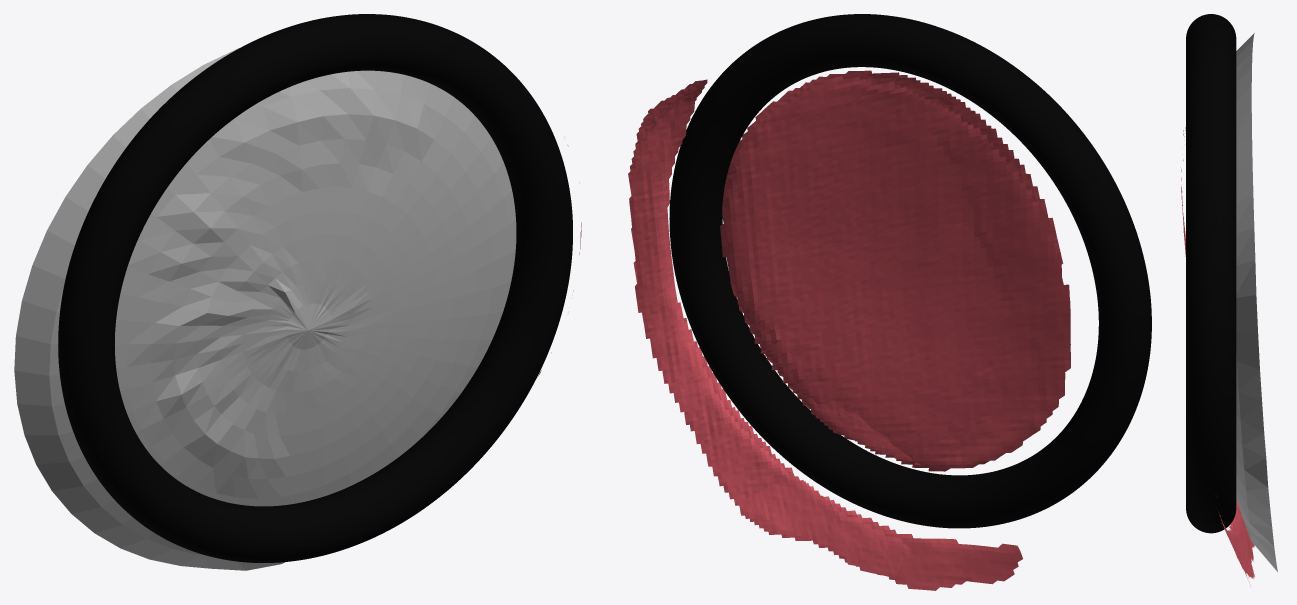
The model's file is G06_M0_FULL_HERO.glb.
The picture shows the model from 3 angles, left to right: view 1: azimuth 30°, elevation 25°; view 2: azimuth 150°, elevation 25°; view 3: azimuth 270°, elevation 25°; orthographic projection. The views are drawn at different scales.
Parts seen in each view (by area): view 1: Body_A2, Ring; view 2: 004_G06_v004_raw00046, Ring, 004_G06_v004_raw00744; view 3: Ring, Body_A2, 004_G06_v004_raw00744, 004_G06_v004_raw00046.
Boxes of the visible parts, x1,y1,x2,y2 form: Body_A2: (14,48,516,570); Ring: (58,14,572,562); 004_G06_v004_raw00046: (629,76,1070,590); Ring: (669,14,1151,528); 004_G06_v004_raw00744: (628,70,1063,578); Ring: (1186,14,1236,533); Body_A2: (1236,33,1277,571); 004_G06_v004_raw00744: (1181,127,1254,578); 004_G06_v004_raw00046: (1228,441,1254,585).
Bounding box in the file's own units: 0.0137 × 0.0135 × 0.00244.
